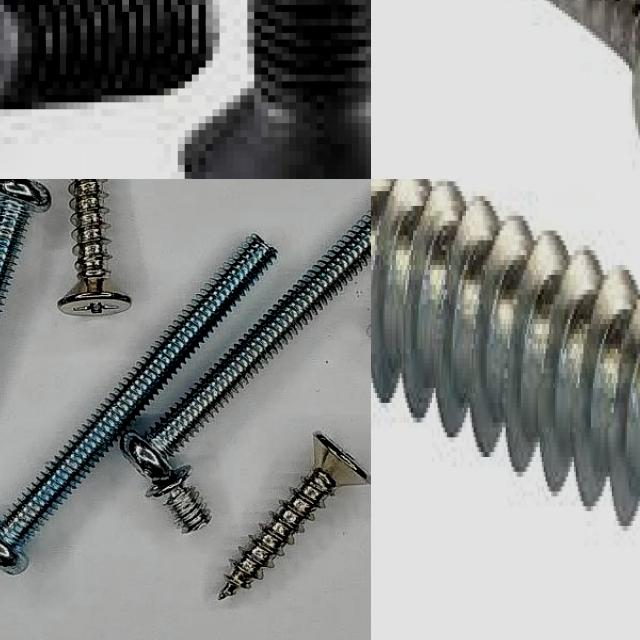Screw: (371, 179, 640, 531), (0, 235, 276, 573), (121, 209, 371, 483), (178, 0, 371, 179), (219, 434, 371, 601), (0, 0, 220, 109), (57, 179, 131, 316), (146, 466, 211, 533)
